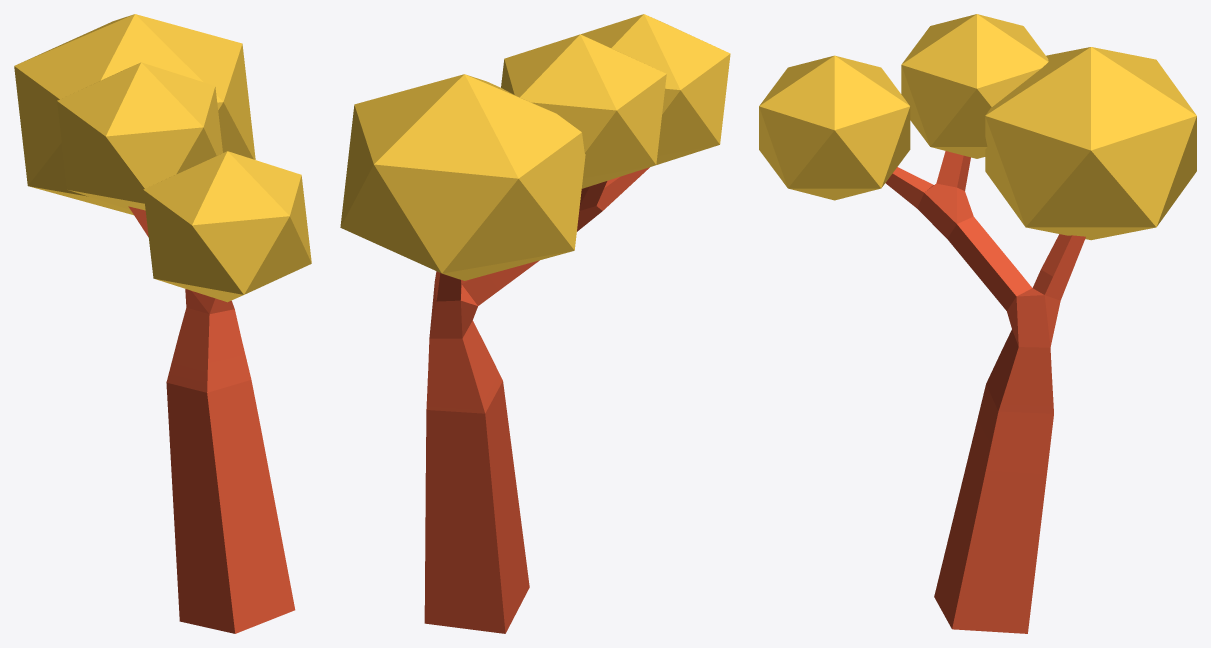
Rendered from arvore1.fbx.
3 renders of one model, left to right at view 1: azimuth 30°, elevation 25°; view 2: azimuth 150°, elevation 25°; view 3: azimuth 270°, elevation 25°, orthographic. The views are drawn at different scales.
Parts seen in each view (by area): view 1: Cube, Icosphere.001, Icosphere, Icosphere.002; view 2: Icosphere, Cube, Icosphere.002, Icosphere.001; view 3: Cube, Icosphere, Icosphere.001, Icosphere.002.
Boxes of the visible parts, left/top/right/bottom form: Cube: left=128, top=206, right=295, bottom=633; Icosphere.001: left=143, top=151, right=311, bottom=302; Icosphere: left=14, top=14, right=255, bottom=215; Icosphere.002: left=57, top=62, right=222, bottom=210; Icosphere: left=340, top=74, right=585, bottom=280; Cube: left=424, top=167, right=649, bottom=633; Icosphere.002: left=501, top=34, right=666, bottom=188; Icosphere.001: left=581, top=14, right=730, bottom=164; Cube: left=885, top=151, right=1085, bottom=633; Icosphere: left=985, top=47, right=1196, bottom=240; Icosphere.001: left=759, top=55, right=910, bottom=200; Icosphere.002: left=901, top=14, right=1048, bottom=158.
Bounding box in the file's own units: 115 × 275 × 194.
